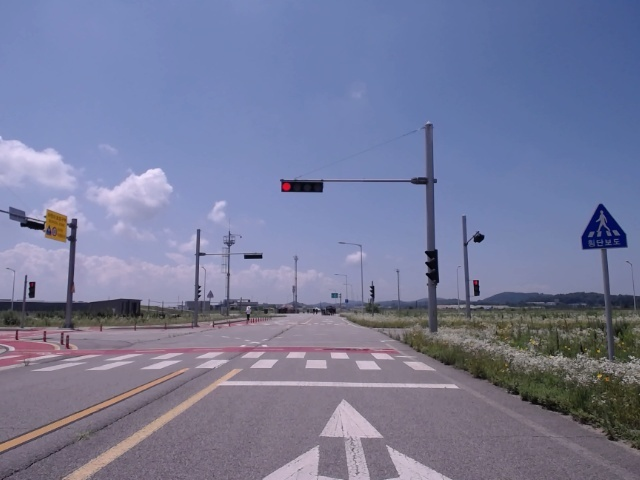red_4: (280, 181, 324, 192)
